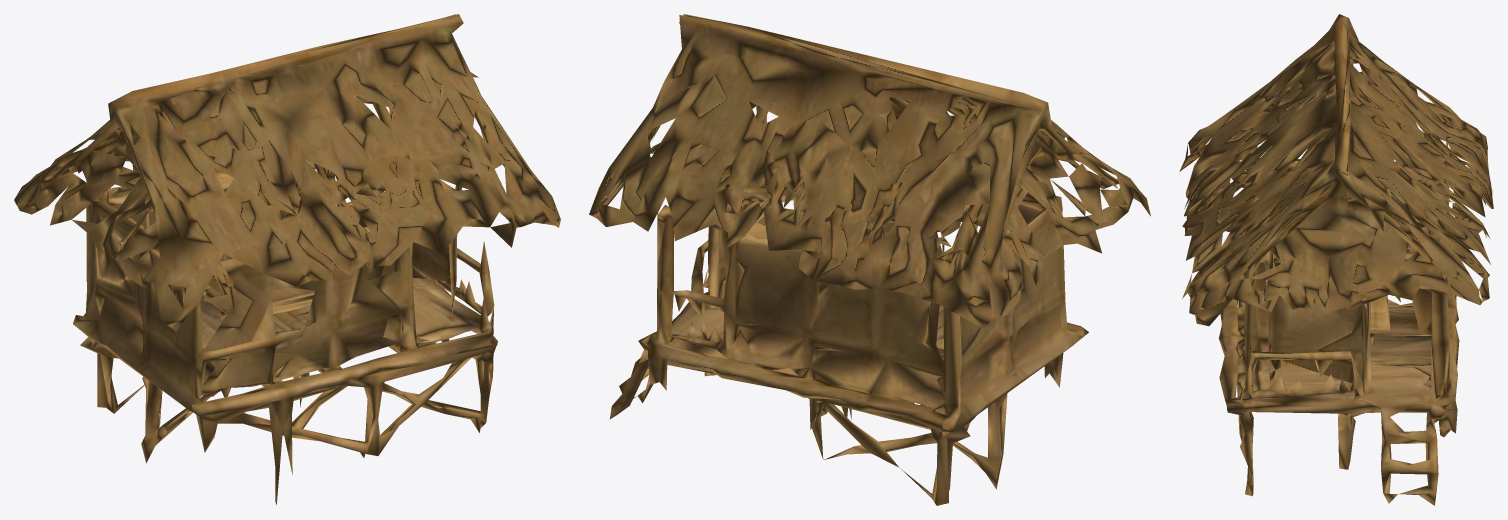
The model's file is nipa-hut-stilts.glb.
3 views of the same model, side by side, from view 1: azimuth 30°, elevation 25°; view 2: azimuth 150°, elevation 25°; view 3: azimuth 270°, elevation 25° (orthographic). The views are drawn at different scales.
Visible parts, largest first — view 1: geometry_0; view 2: geometry_0; view 3: geometry_0.
Boxes of the visible parts, box(x1,y1,x2,y2) form: geometry_0: box(14, 14, 560, 504); geometry_0: box(589, 14, 1150, 505); geometry_0: box(1179, 14, 1493, 505).
Size of the model in its own units: 1.1 by 1 by 0.7995.
1 material, 1 textured.
